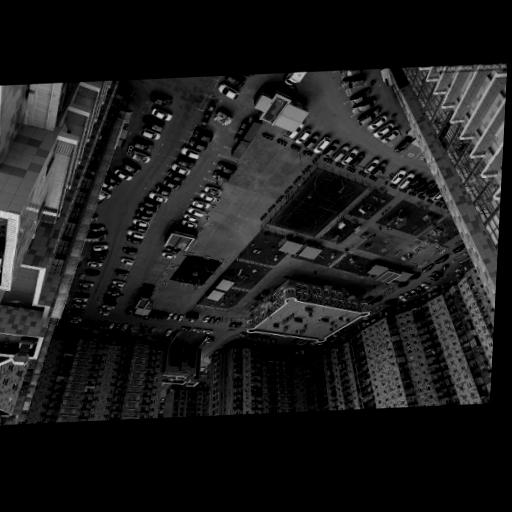busy: (342, 75, 375, 104), (348, 96, 380, 116), (210, 162, 239, 183), (363, 110, 391, 131), (357, 106, 384, 127), (189, 128, 213, 151), (215, 79, 241, 100), (114, 162, 142, 181), (148, 104, 173, 124), (128, 145, 154, 164), (131, 136, 157, 155), (373, 123, 399, 141), (139, 124, 164, 140), (137, 201, 159, 218), (179, 144, 201, 161), (293, 128, 313, 146), (148, 190, 170, 205), (201, 184, 224, 198), (312, 136, 329, 154), (334, 145, 351, 162), (397, 136, 412, 155), (132, 217, 151, 231), (363, 159, 378, 175), (188, 206, 205, 220), (91, 244, 109, 256), (128, 233, 147, 244), (120, 246, 139, 256), (83, 268, 102, 278), (114, 268, 132, 278), (119, 256, 136, 266), (190, 199, 212, 206), (79, 282, 96, 291), (75, 294, 92, 302), (393, 170, 403, 183)
free: (359, 154, 372, 169), (117, 263, 131, 272), (125, 241, 140, 248)
